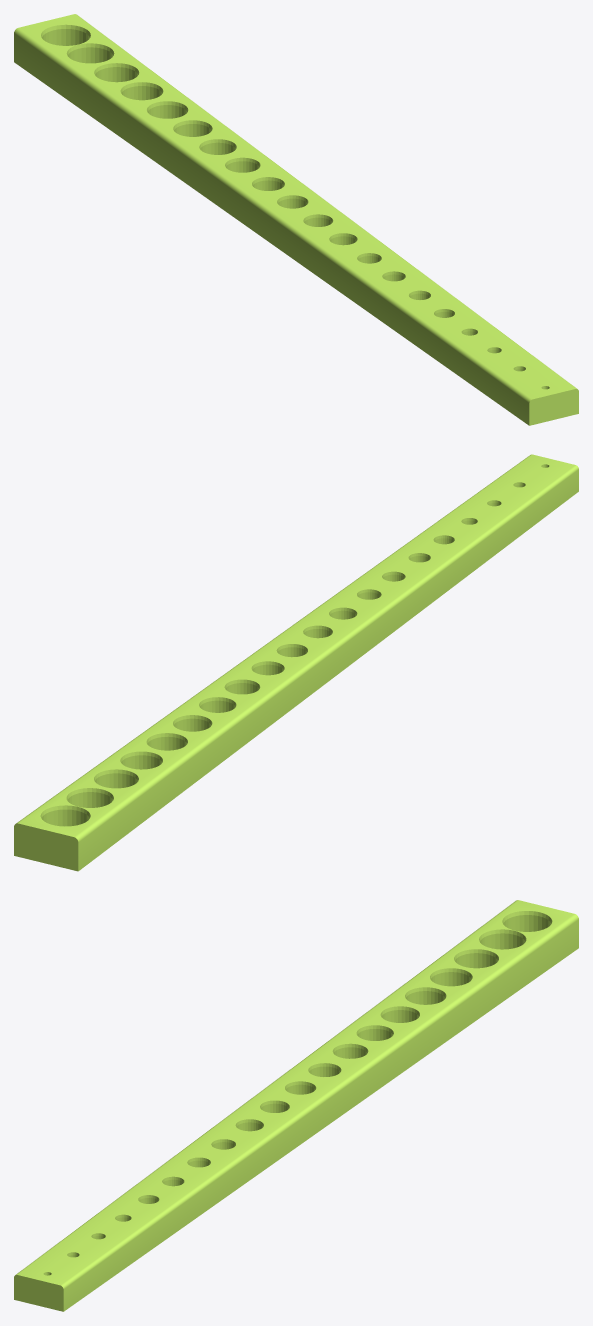
File: LimePlatform.fbx
The picture shows the model from 3 angles, top to bottom: view 1: azimuth 30°, elevation 25°; view 2: azimuth 150°, elevation 25°; view 3: azimuth 330°, elevation 25°; orthographic projection.
Parts seen in each view (by area): view 1: Cube.005; view 2: Cube.005; view 3: Cube.005.
Boxes of the visible parts, x1,y1,x2,y2 form: Cube.005: [14, 14, 578, 425]; Cube.005: [14, 454, 578, 871]; Cube.005: [14, 900, 578, 1311].
Size of the model in its own units: 368 by 182 by 5035.
Materials: 1 (1 with a texture image).
